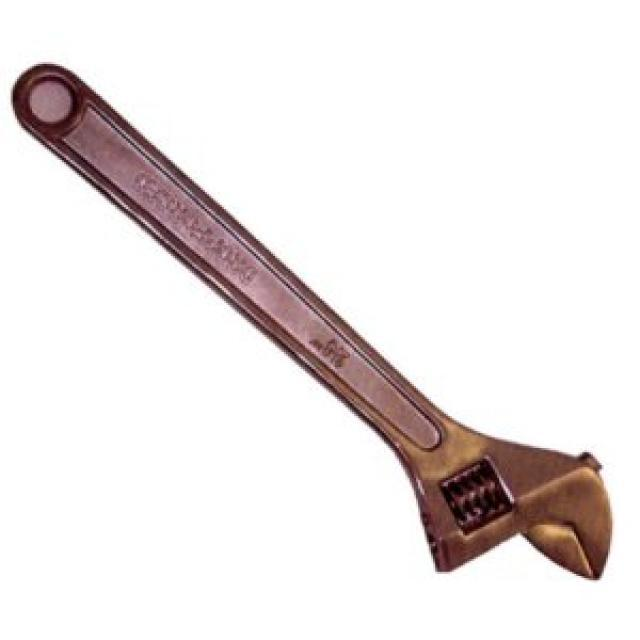wrench: (7, 55, 619, 591)
